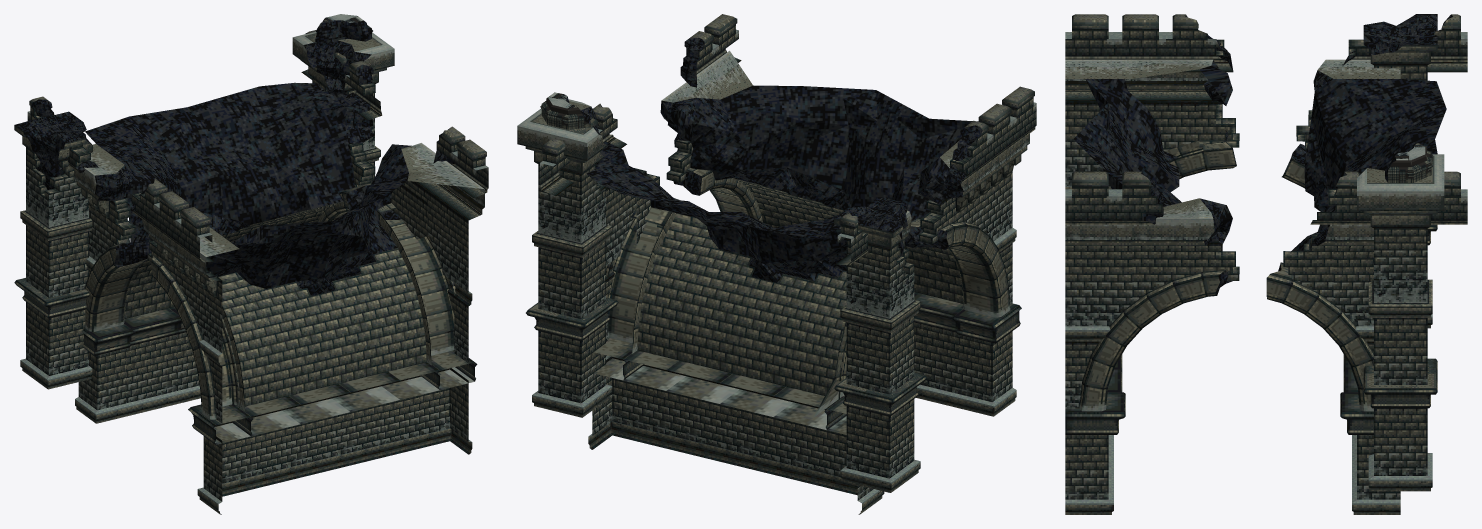
File: EnvBdgMD_Castle_Raimei_A_Bridge_Broken.FBX
3 renders of one model, left to right at view 1: azimuth 30°, elevation 25°; view 2: azimuth 150°, elevation 25°; view 3: azimuth 270°, elevation 25°, orthographic. The views are drawn at different scales.
Parts seen in each view (by area): view 1: EnvBdgMD_Castle_Raimei_A_Bridge_Broken; view 2: EnvBdgMD_Castle_Raimei_A_Bridge_Broken; view 3: EnvBdgMD_Castle_Raimei_A_Bridge_Broken.
Part boxes in pixels (x1=…): EnvBdgMD_Castle_Raimei_A_Bridge_Broken: x1=14, y1=14, x2=488, y2=514; EnvBdgMD_Castle_Raimei_A_Bridge_Broken: x1=517, y1=14, x2=1036, y2=514; EnvBdgMD_Castle_Raimei_A_Bridge_Broken: x1=1065, y1=14, x2=1467, y2=514.
Bounding box in the file's own units: 1390 × 1235 × 1200.
